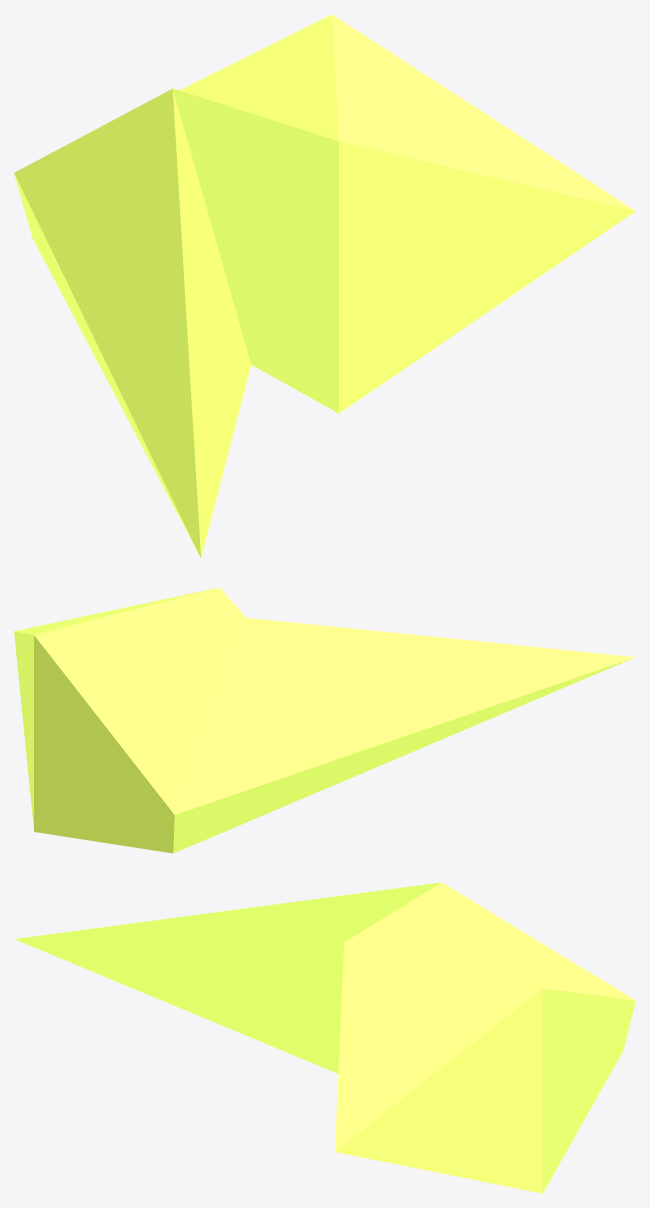
File: H1_YPl_Blob6.gltf
3 renders of one model, top to bottom at view 1: azimuth 30°, elevation 25°; view 2: azimuth 150°, elevation 25°; view 3: azimuth 270°, elevation 25°, orthographic. The views are drawn at different scales.
Visible parts, largest first — view 1: H1_YPl_Blob6; view 2: H1_YPl_Blob6; view 3: H1_YPl_Blob6.
Boxes of the visible parts, box(x1,y1,x2,y2) form: H1_YPl_Blob6: box(14, 14, 635, 557); H1_YPl_Blob6: box(14, 587, 635, 853); H1_YPl_Blob6: box(14, 882, 635, 1193).
Bounding box in the file's own units: 0.8198 × 0.3659 × 0.9046.
